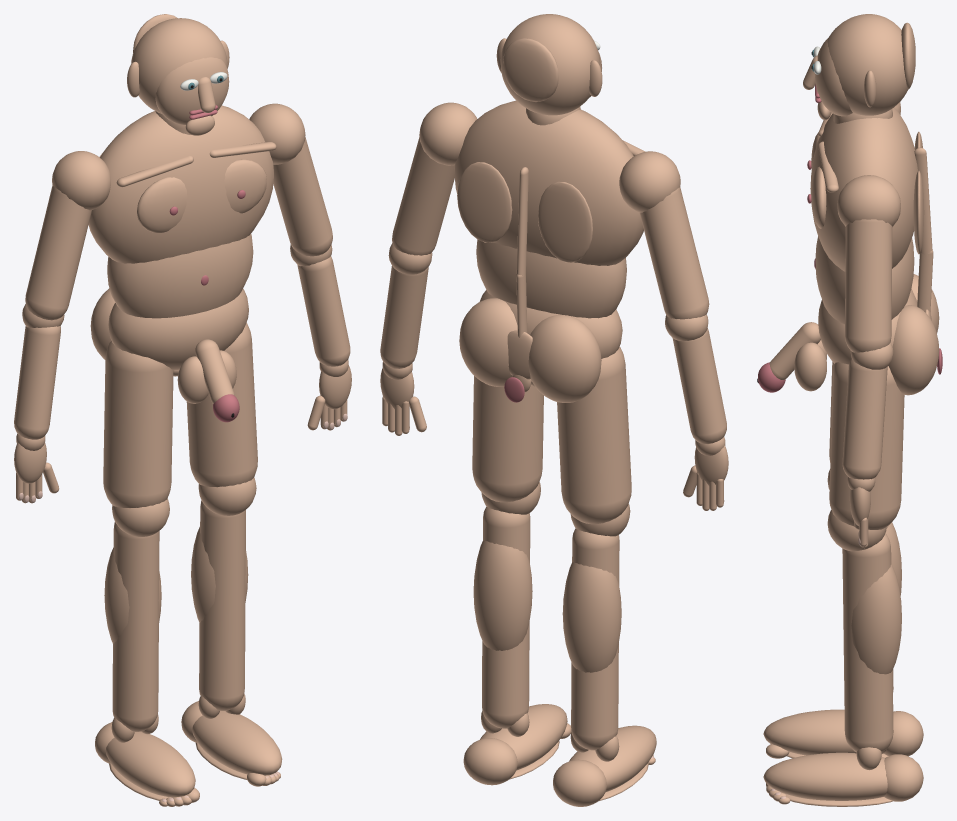
File: body-erwachsener-maennlich-v2.glb
3 renders of one model, left to right at view 1: azimuth 30°, elevation 25°; view 2: azimuth 150°, elevation 25°; view 3: azimuth 270°, elevation 25°, orthographic. The views are drawn at different scales.
Visible parts, largest first — view 1: zone__surface-chest, zone__surface-thigh-left, zone__surface-abdomen, zone__surface-lower-leg-left, zone__surface-lower-leg-right, zone__surface-thigh-right, zone__surface-pelvis, zone__surface-upper-arm-left, zone__surface-scalp, zone__surface-upper-arm-right, zone__surface-forearm-left, zone__surface-foot-right (+18 smaller); view 2: zone__surface-chest, zone__surface-thigh-left, zone__surface-thigh-right, zone__surface-abdomen, zone__surface-upper-arm-left, zone__surface-calf-left, zone__surface-calf-right, zone__surface-lower-leg-left, zone__surface-lower-leg-right, zone__surface-buttock-left, zone__surface-scalp, zone__surface-upper-arm-right (+21 smaller); view 3: zone__surface-chest, zone__surface-lower-leg-right, zone__surface-upper-arm-right, zone__surface-thigh-right, zone__surface-scalp, zone__surface-foot-right, zone__surface-forearm-right, zone__surface-calf-right, zone__surface-buttock-right, zone__surface-foot-left, zone__surface-abdomen, zone__surface-shoulder-right (+22 smaller).
Boxes of the visible parts, x1=… form: zone__surface-chest: x1=88, y1=105, x2=273, y2=263; zone__surface-thigh-left: x1=103, y1=341, x2=173, y2=507; zone__surface-abdomen: x1=107, y1=234, x2=253, y2=318; zone__surface-lower-leg-left: x1=112, y1=522, x2=159, y2=731; zone__surface-lower-leg-right: x1=199, y1=500, x2=245, y2=710; zone__surface-thigh-right: x1=186, y1=322, x2=257, y2=487; zone__surface-pelvis: x1=108, y1=289, x2=248, y2=370; zone__surface-upper-arm-left: x1=25, y1=185, x2=91, y2=320; zone__surface-scalp: x1=131, y1=18, x2=227, y2=113; zone__surface-upper-arm-right: x1=273, y1=137, x2=332, y2=256; zone__surface-forearm-left: x1=14, y1=326, x2=60, y2=439; zone__surface-foot-right: x1=192, y1=711, x2=282, y2=775; zone__surface-chest: x1=454, y1=100, x2=643, y2=265; zone__surface-thigh-left: x1=557, y1=346, x2=631, y2=524; zone__surface-thigh-right: x1=472, y1=376, x2=543, y2=502; zone__surface-abdomen: x1=476, y1=239, x2=626, y2=318; zone__surface-upper-arm-left: x1=639, y1=187, x2=709, y2=319; zone__surface-calf-left: x1=562, y1=562, x2=621, y2=672; zone__surface-calf-right: x1=473, y1=540, x2=532, y2=650; zone__surface-lower-leg-left: x1=571, y1=528, x2=619, y2=750; zone__surface-lower-leg-right: x1=482, y1=506, x2=530, y2=728; zone__surface-buttock-left: x1=528, y1=314, x2=601, y2=402; zone__surface-scalp: x1=500, y1=14, x2=600, y2=115; zone__surface-upper-arm-right: x1=392, y1=137, x2=454, y2=255; zone__surface-chest: x1=810, y1=107, x2=917, y2=271; zone__surface-lower-leg-right: x1=842, y1=533, x2=893, y2=752; zone__surface-upper-arm-right: x1=845, y1=219, x2=892, y2=352; zone__surface-thigh-right: x1=829, y1=362, x2=904, y2=529; zone__surface-scalp: x1=827, y1=14, x2=908, y2=115; zone__surface-foot-right: x1=763, y1=752, x2=887, y2=800; zone__surface-forearm-right: x1=842, y1=358, x2=887, y2=479; zone__surface-calf-right: x1=851, y1=564, x2=901, y2=674; zone__surface-buttock-right: x1=888, y1=305, x2=939, y2=395; zone__surface-foot-left: x1=763, y1=709, x2=886, y2=755; zone__surface-abdomen: x1=815, y1=236, x2=914, y2=324; zone__surface-shoulder-right: x1=837, y1=175, x2=900, y2=226.
Bounding box in the file's own units: 0.816 × 1.72 × 0.3807.
